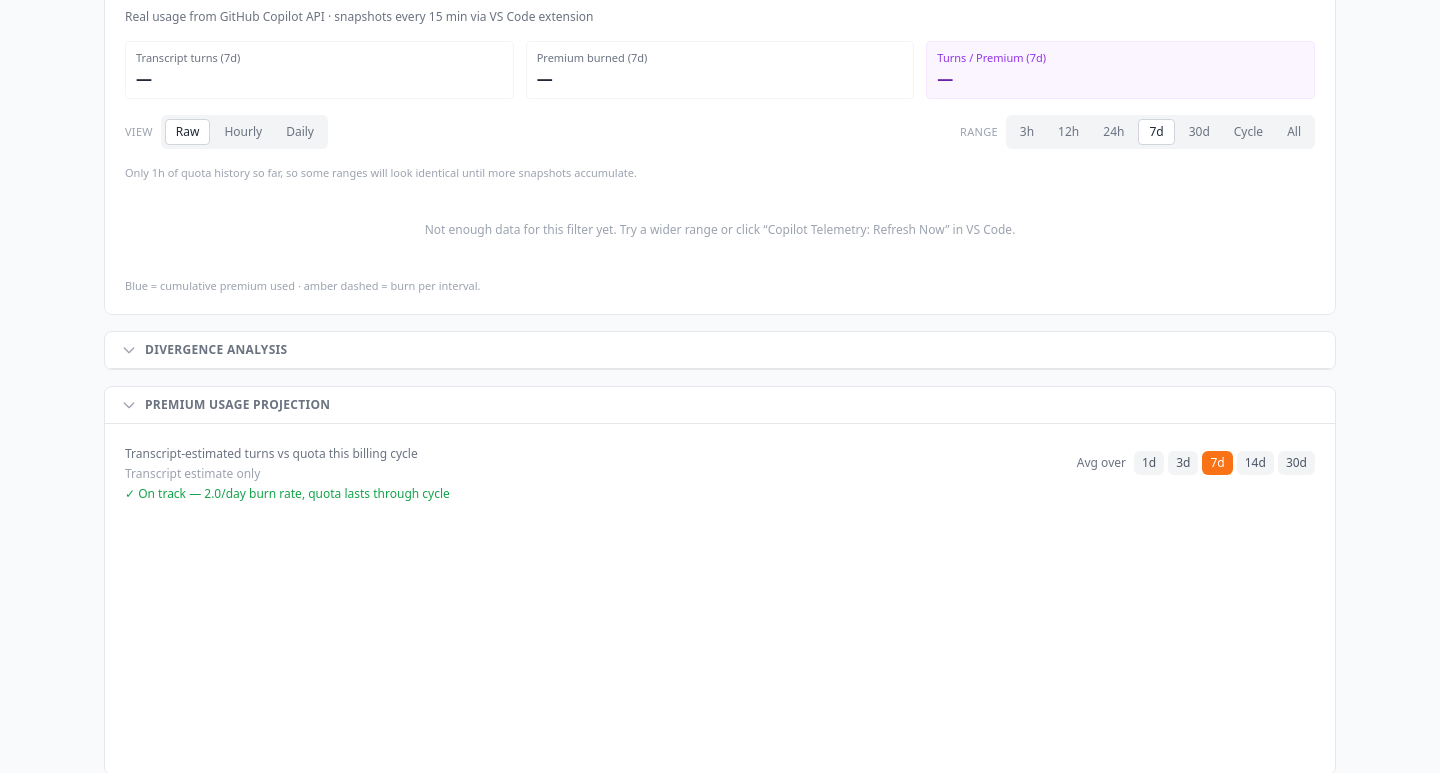
Test: Dashboard page › renders collapsible module buttons and collapses individual modules
The width and height of the screenshot is (1440, 773).
(page scrolled)
Click the button with aria-label "Collapse Premium Usage Projection" at (238, 404), box left=105, top=387, right=1335, bottom=423
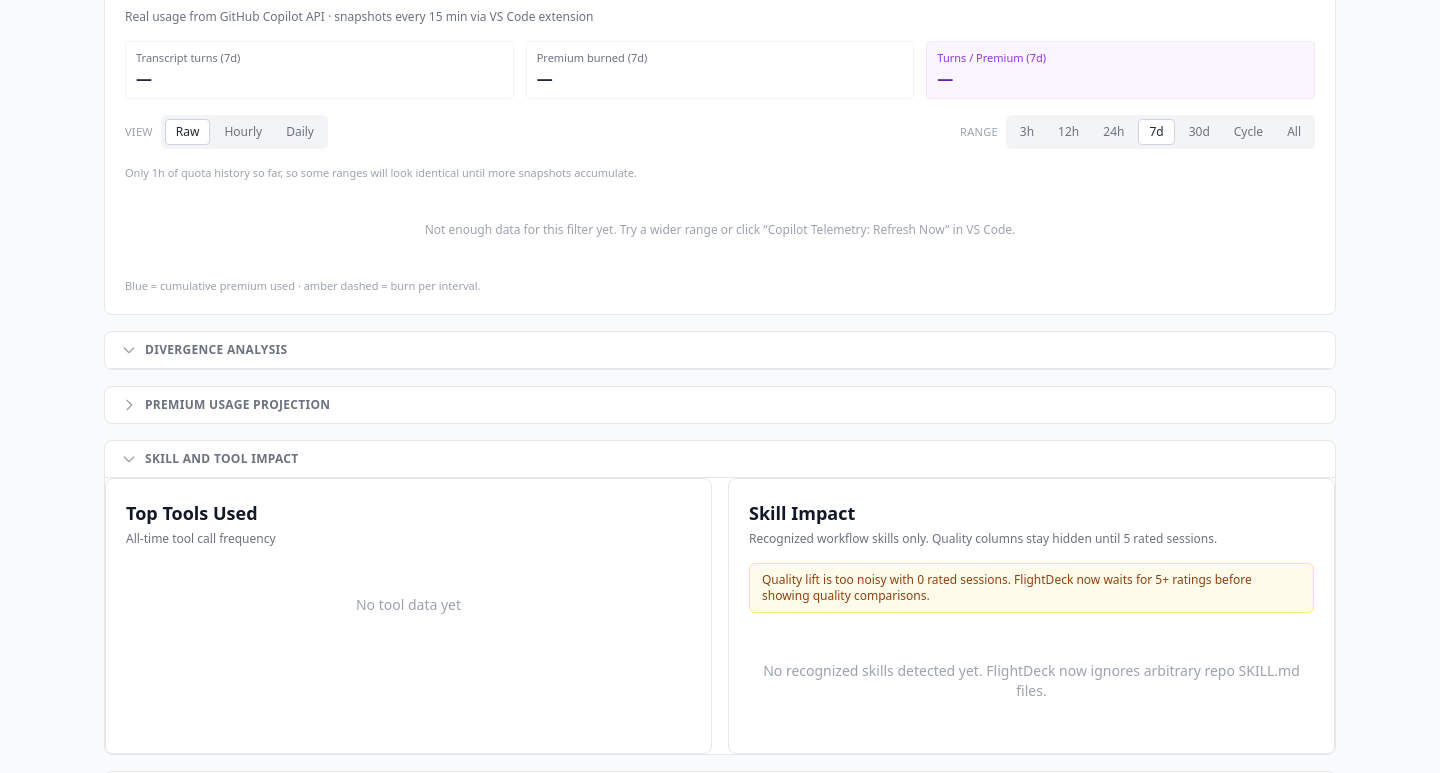
Result: the button with aria-label "Expand Premium Usage Projection" is shown at left=105, top=387, right=1335, bottom=423
